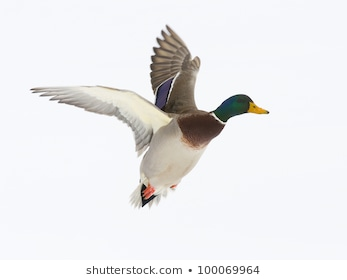duck: (17, 20, 284, 223)
